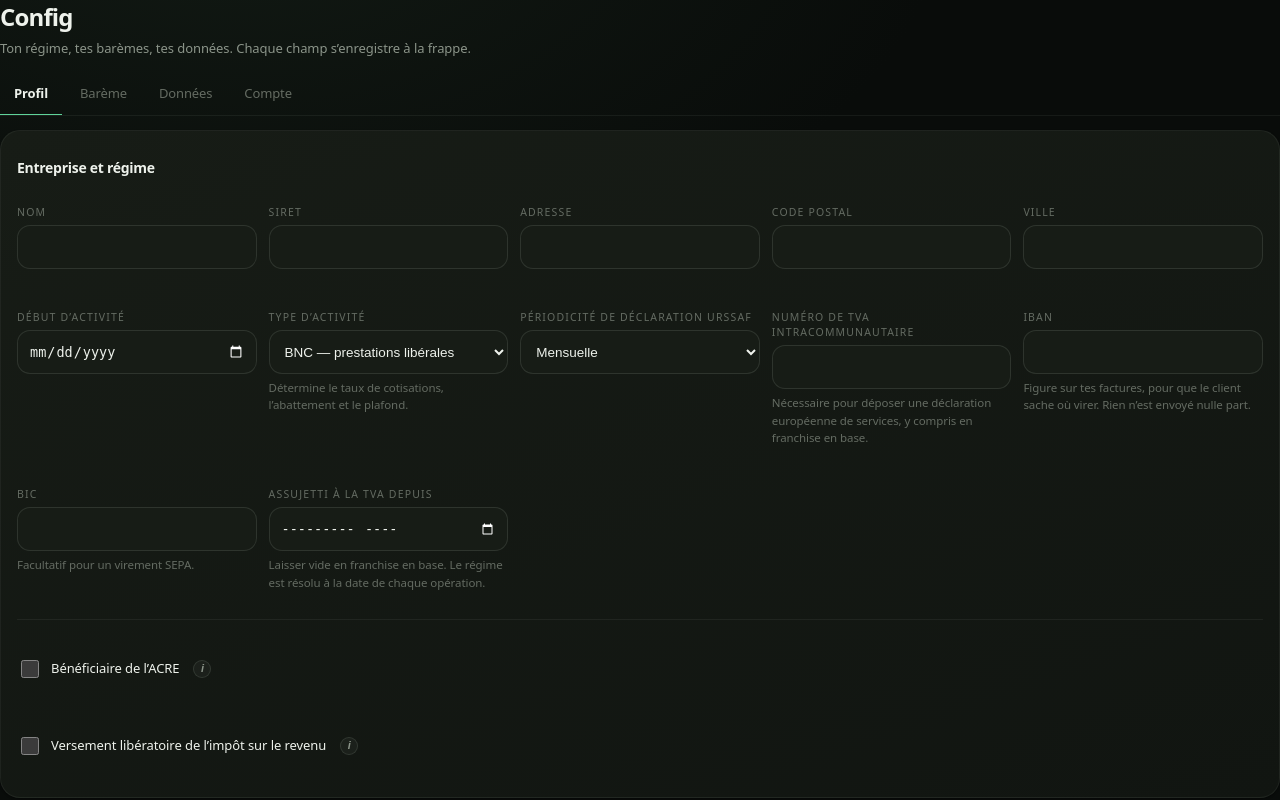
it: ajout d’une période › prolonge le barème sans redéploiement
Click the tab "Barème".
click(103, 94)  # box [66,72,141,116]
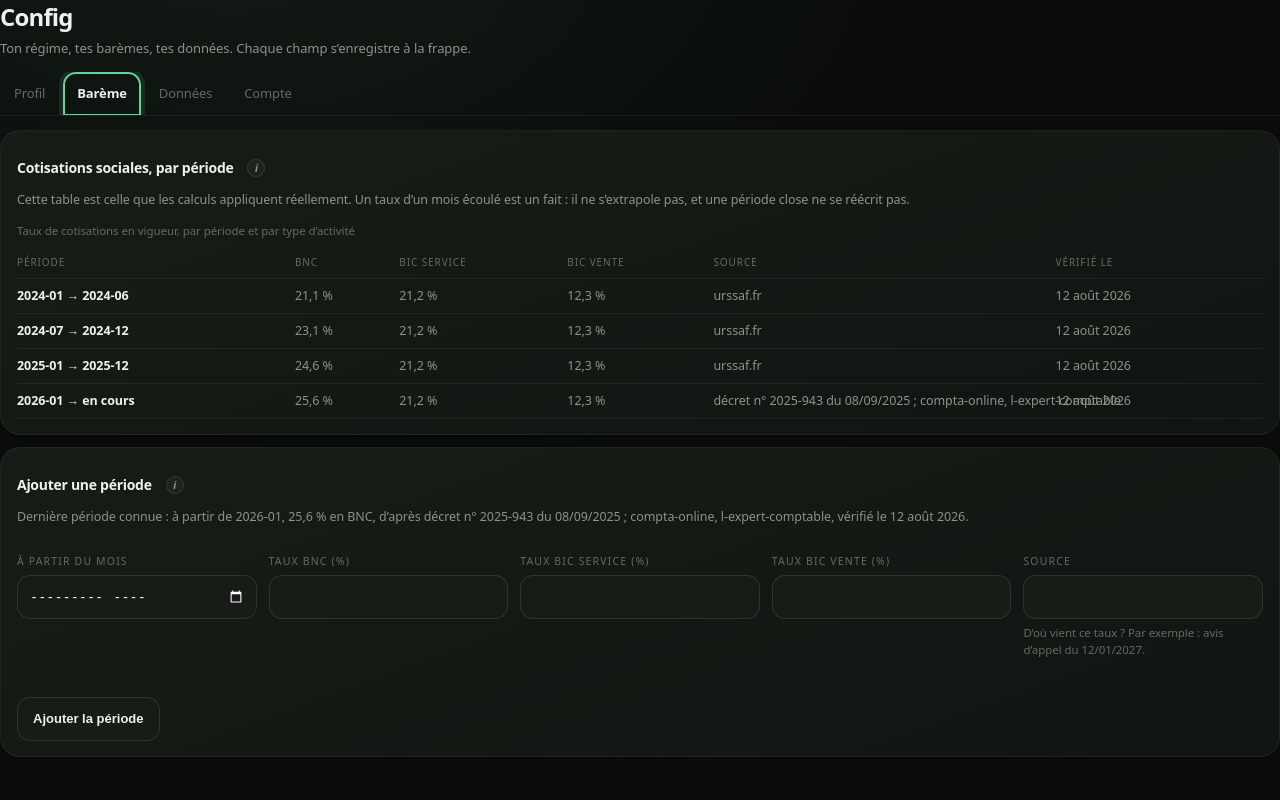
Result: the table is shown at [17,223,1263,419]
Type "2027-01" into the field labelled "À partir du mois".
click(137, 596); type("2027-01")  # box [17,574,257,618]
Type "27,2" into the field labelled "Taux BNC (%)".
click(388, 596); type("27,2")  # box [269,574,508,618]
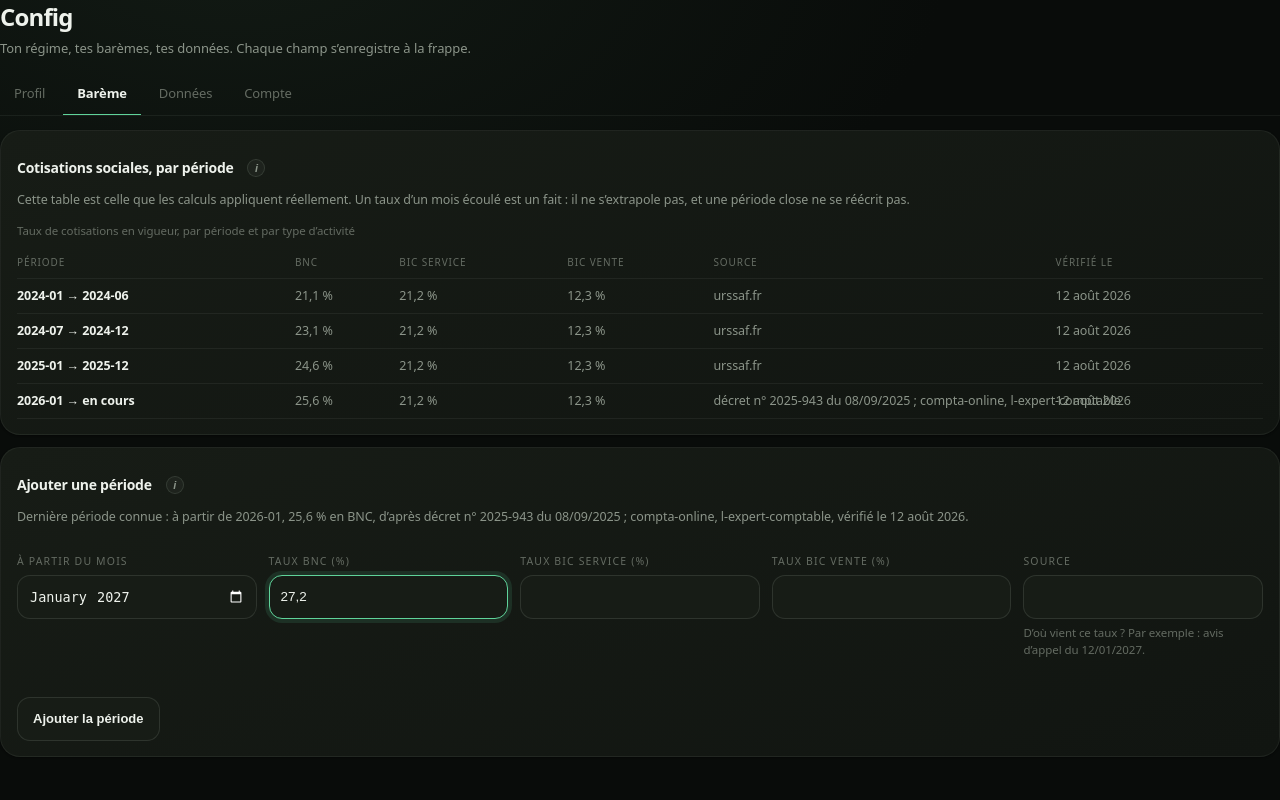
Type "21,2" into the field labelled "Taux BIC service (%)".
click(640, 596); type("21,2")  # box [520,574,760,618]
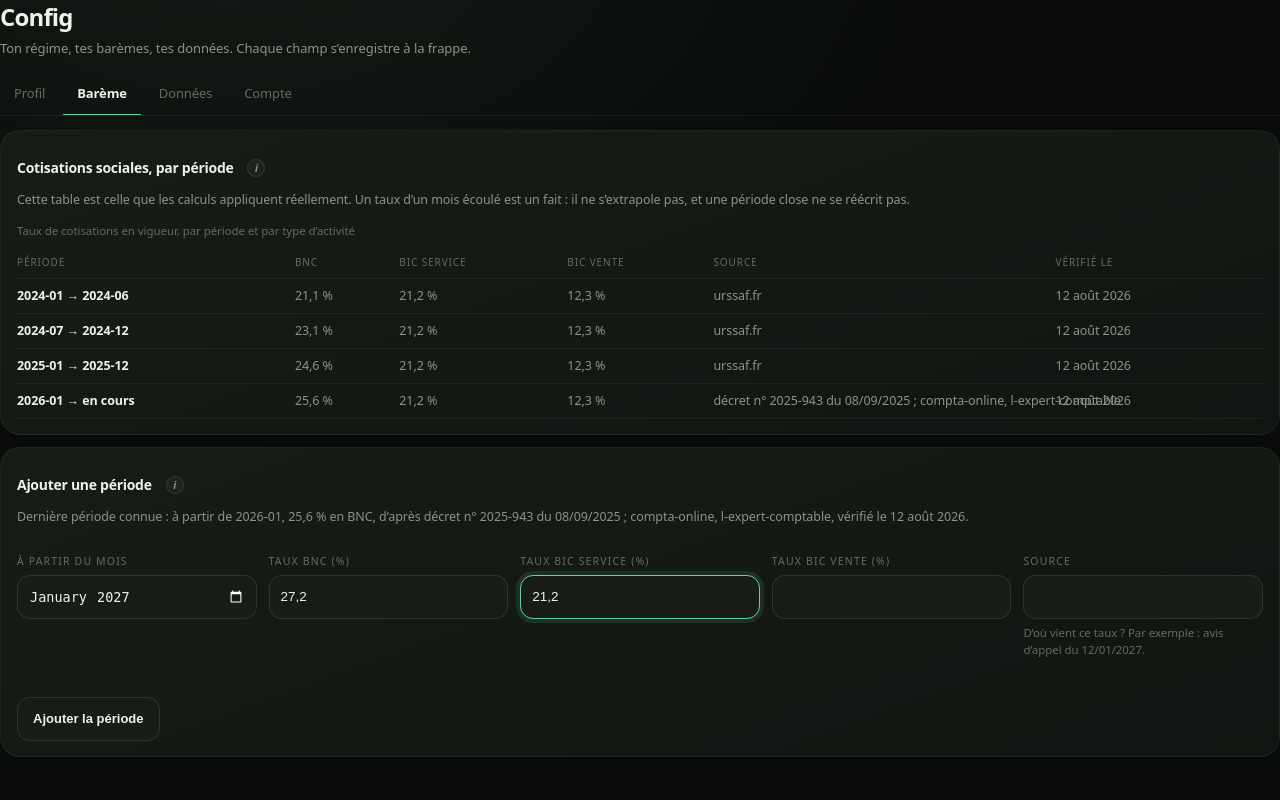
Type "12,3" into the field labelled "Taux BIC vente (%)".
click(892, 596); type("12,3")  # box [772,574,1011,618]
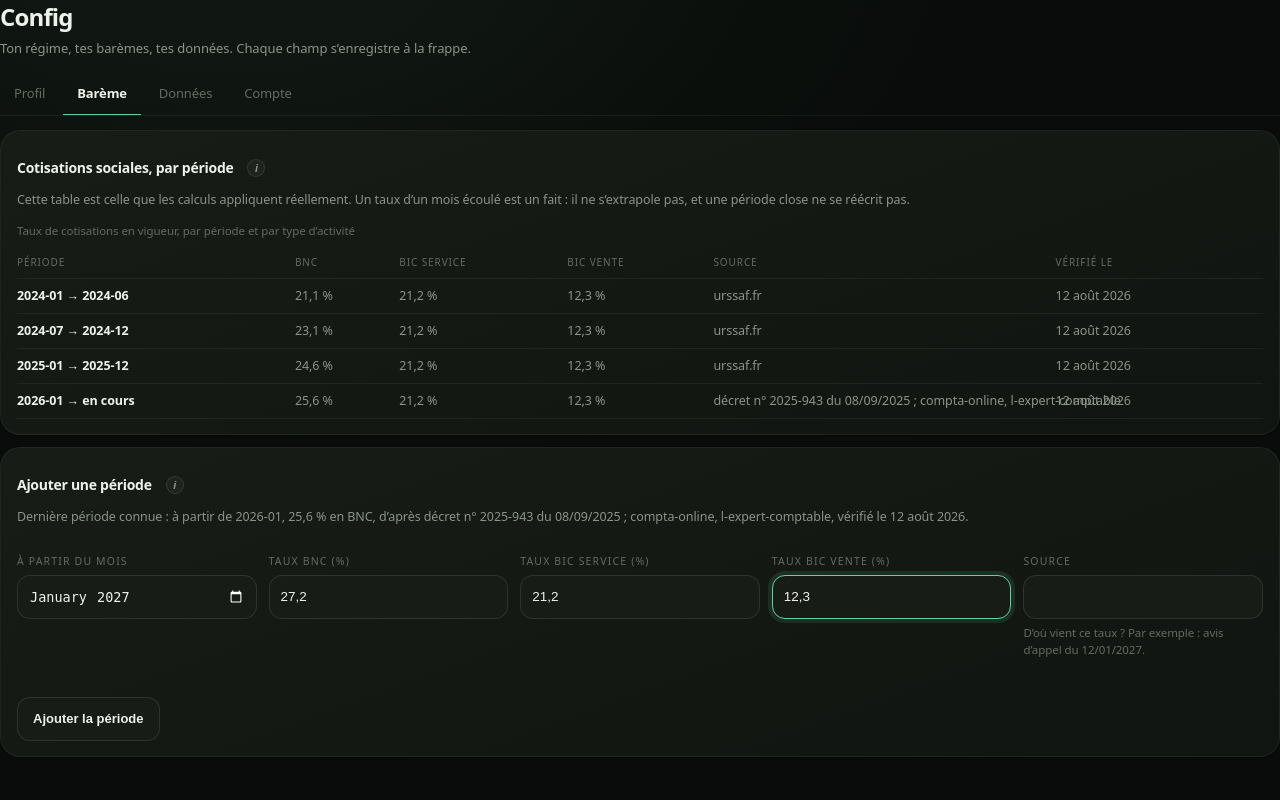
Type "avis du 12/01/2027" into the field labelled "Source".
click(1143, 596); type("avis du 12/01/2027")  # box [1023,574,1263,618]
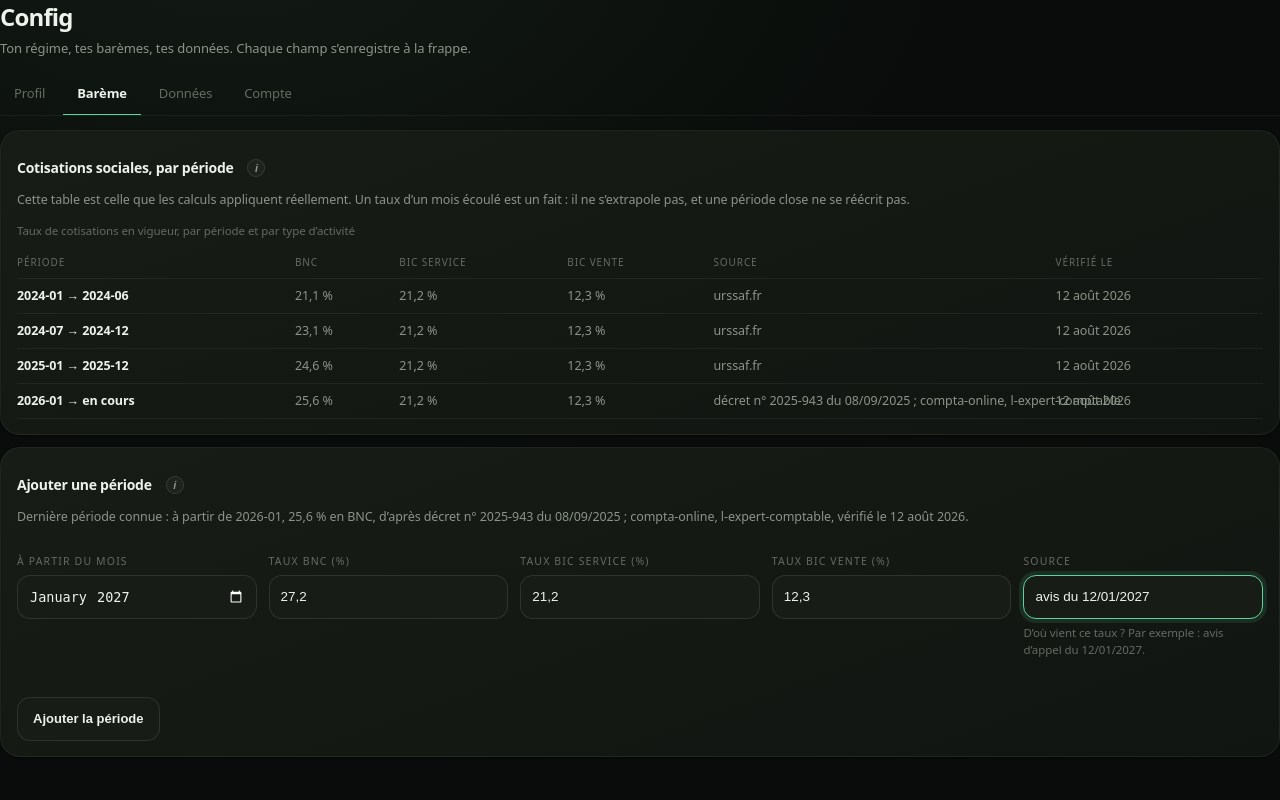
Click the button "Ajouter la période".
click(88, 718)  # box [17,696,160,740]
(page scrolled)
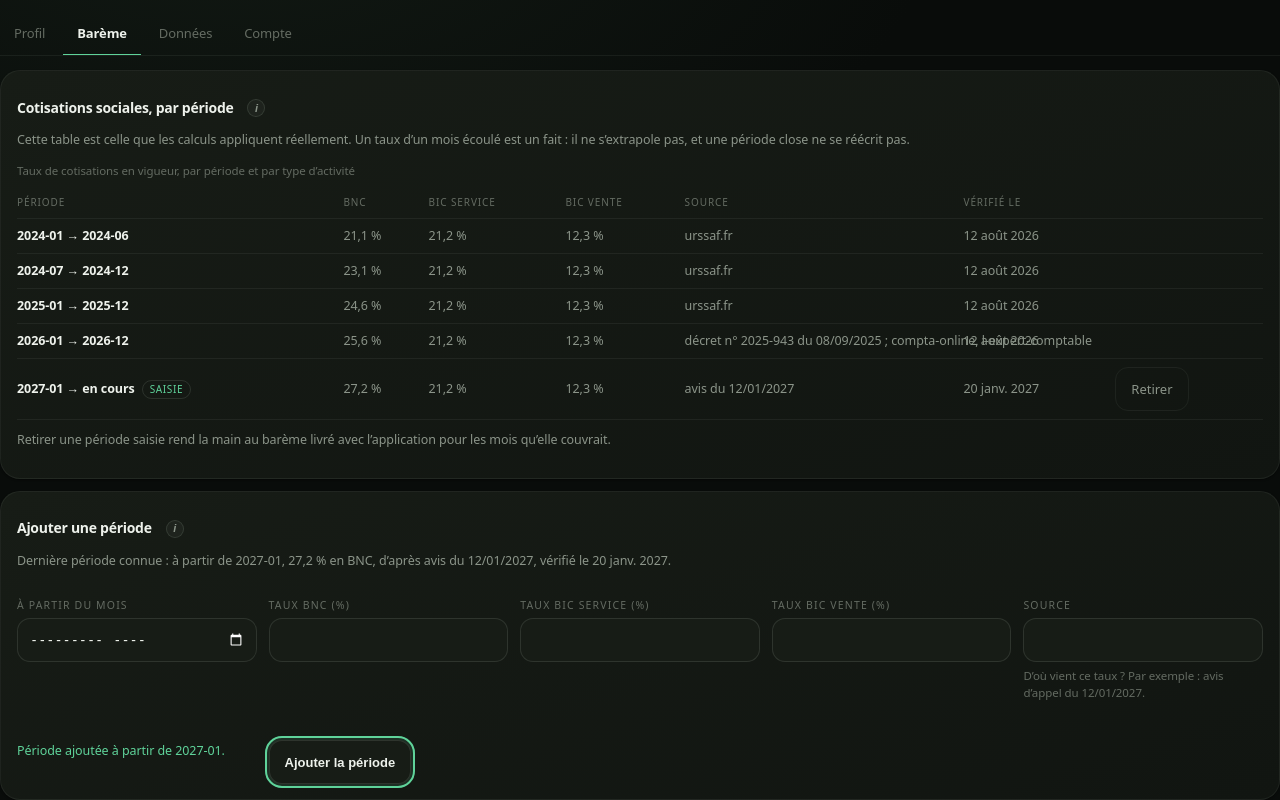
Result: the message shows "Période ajoutée" at [17,742,225,758]
